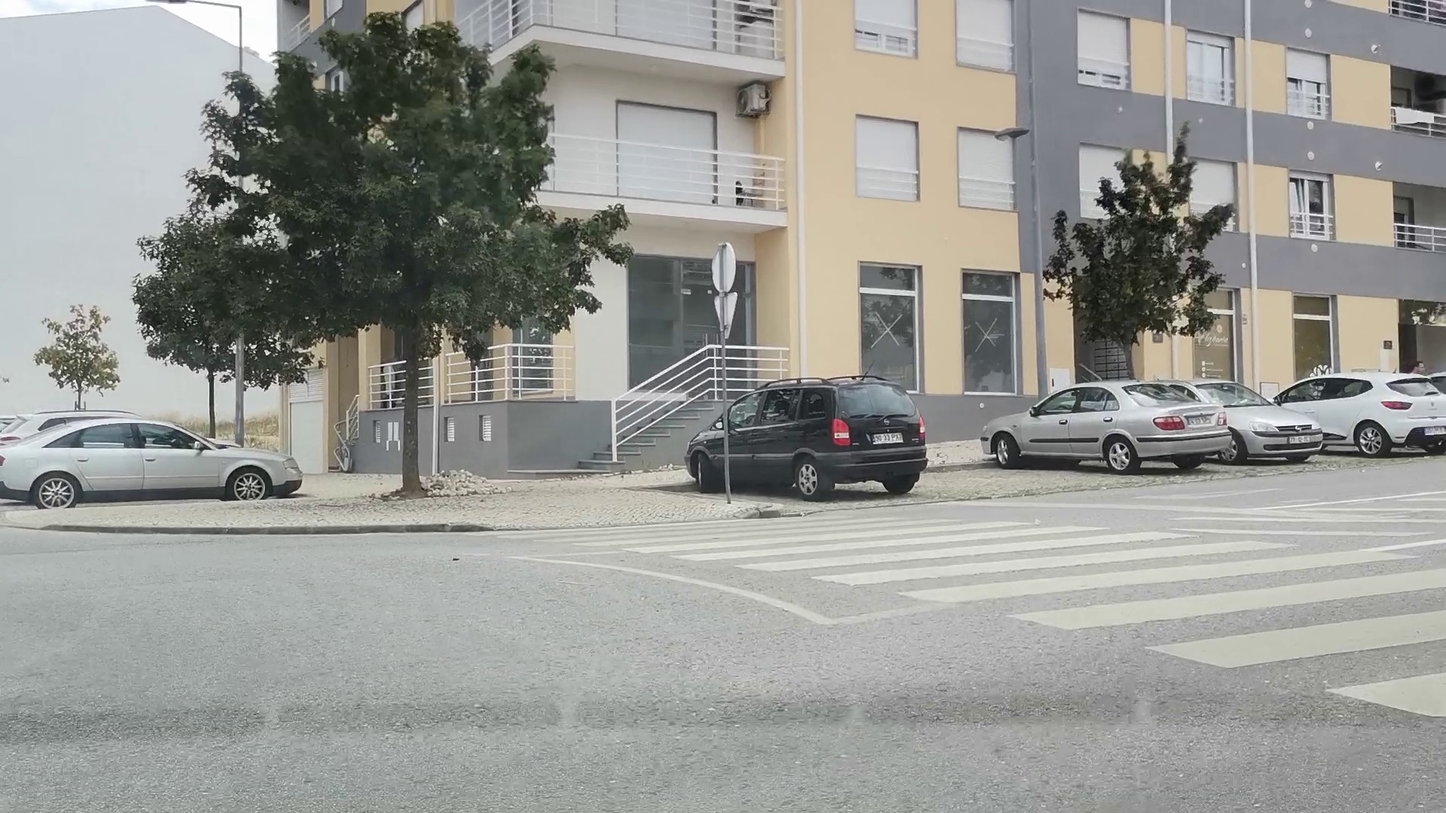Stairs: (502, 518, 1446, 733)
